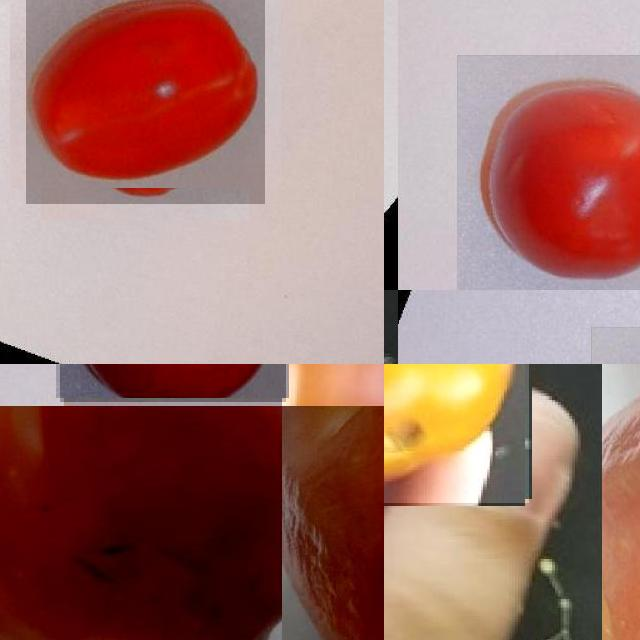Fresh Tomato: (25, 0, 265, 204), (457, 55, 640, 290), (384, 364, 528, 502)
Rotten Tomato: (0, 406, 282, 640), (282, 406, 384, 640)
